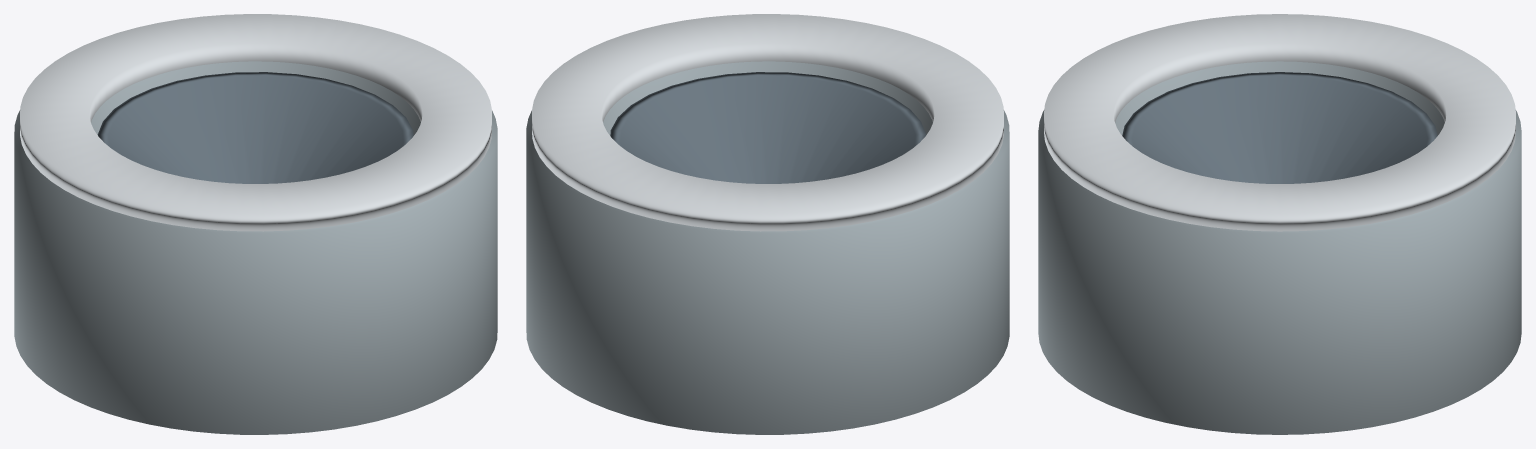
File: eagle_ascent.docking_tunnel.glb
The picture shows the model from 3 angles, left to right: view 1: azimuth 30°, elevation 25°; view 2: azimuth 150°, elevation 25°; view 3: azimuth 270°, elevation 25°; orthographic projection.
Parts seen in each view (by area): view 1: eagle_ascent.docking_tunnel.mesh, eagle_ascent.docking_tunnel.drogue.mesh; view 2: eagle_ascent.docking_tunnel.mesh, eagle_ascent.docking_tunnel.drogue.mesh; view 3: eagle_ascent.docking_tunnel.mesh, eagle_ascent.docking_tunnel.drogue.mesh.
Boxes of the visible parts, x1,y1,x2,y2 form: eagle_ascent.docking_tunnel.mesh: (14, 14, 497, 434); eagle_ascent.docking_tunnel.drogue.mesh: (97, 72, 413, 183); eagle_ascent.docking_tunnel.mesh: (526, 14, 1009, 434); eagle_ascent.docking_tunnel.drogue.mesh: (610, 72, 926, 183); eagle_ascent.docking_tunnel.mesh: (1038, 14, 1521, 434); eagle_ascent.docking_tunnel.drogue.mesh: (1122, 72, 1437, 183).
Bounding box in the file's own units: 1.22 × 0.61 × 1.22.
